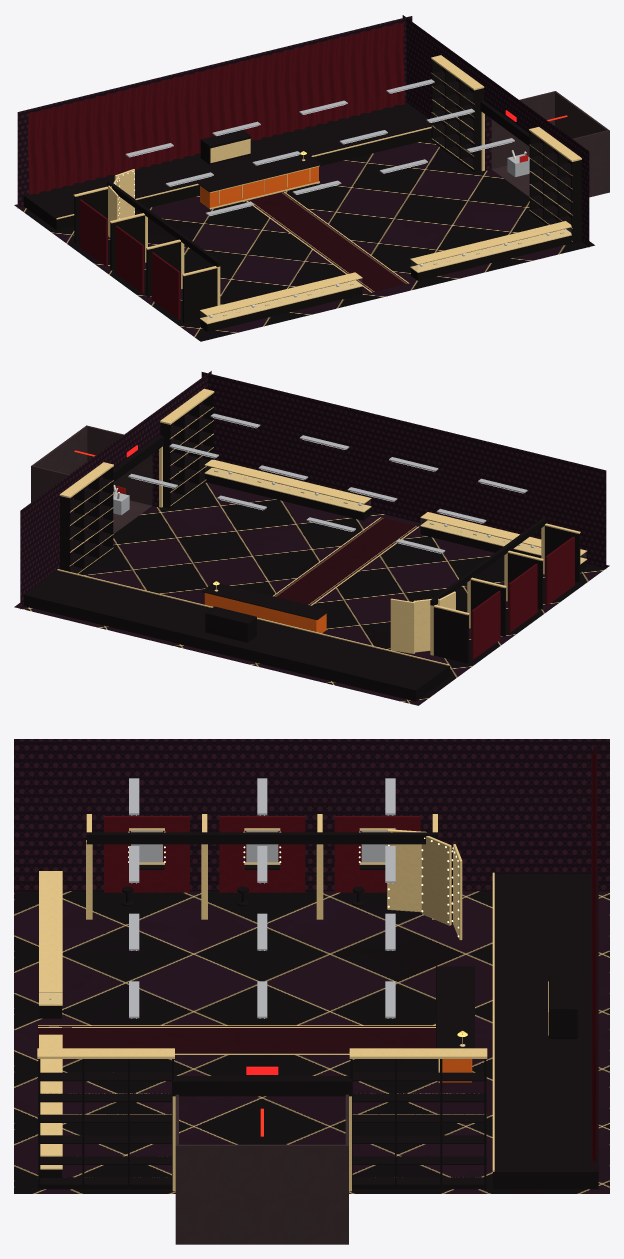
Rendered from sexy-trauma-costume.glb.
The picture shows the model from 3 angles, top to bottom: view 1: azimuth 30°, elevation 25°; view 2: azimuth 150°, elevation 25°; view 3: azimuth 270°, elevation 25°; orthographic projection. The views are drawn at different scales.
Parts seen in each view (by area): view 1: set.stc_floor.mirror.nocast, set.stc_velvet, set.stc_black, set.stc_gold, set.stc_wallpaper, set.stc_runner.nocast, set.stc_concrete, set.stc_chrome.hidden, set.stc_orange, set.stc_concrete.nocast; view 2: set.stc_black, set.stc_floor.mirror.nocast, set.stc_wallpaper.hidden, set.stc_gold, set.stc_wallpaper, set.stc_velvet, set.stc_runner.nocast, set.stc_concrete, set.stc_chrome.hidden, set.stc_orange, set.stc_concrete.nocast; view 3: set.stc_floor.mirror.nocast, set.stc_wallpaper, set.stc_black, set.stc_gold, set.stc_concrete, set.stc_velvet, set.stc_runner.nocast, set.stc_chrome.hidden, set.stc_chrome.
Part boxes in pixels (<box>): set.stc_floor.mirror.nocast: <box>14,139,594,341</box>; set.stc_velvet: <box>28,22,404,319</box>; set.stc_black: <box>23,60,581,332</box>; set.stc_gold: <box>56,55,581,324</box>; set.stc_wallpaper: <box>17,15,589,247</box>; set.stc_runner.nocast: <box>246,192,409,292</box>; set.stc_concrete: <box>491,91,609,197</box>; set.stc_chrome.hidden: <box>125,79,514,215</box>; set.stc_orange: <box>200,166,318,208</box>; set.stc_concrete.nocast: <box>492,165,529,196</box>; set.stc_black: <box>24,393,586,701</box>; set.stc_floor.mirror.nocast: <box>14,482,609,705</box>; set.stc_wallpaper.hidden: <box>201,372,606,568</box>; set.stc_gold: <box>57,388,587,665</box>; set.stc_wallpaper: <box>20,371,211,609</box>; set.stc_velvet: <box>471,536,574,659</box>; set.stc_runner.nocast: <box>273,517,419,605</box>; set.stc_concrete: <box>31,425,153,505</box>; set.stc_chrome.hidden: <box>128,413,527,553</box>; set.stc_orange: <box>204,593,326,633</box>; set.stc_concrete.nocast: <box>113,500,151,533</box>; set.stc_floor.mirror.nocast: <box>14,891,609,1193</box>; set.stc_wallpaper: <box>14,739,609,891</box>; set.stc_black: <box>38,832,598,1189</box>; set.stc_gold: <box>37,814,548,1191</box>; set.stc_concrete: <box>175,1094,348,1244</box>; set.stc_velvet: <box>104,746,596,1168</box>; set.stc_runner.nocast: <box>38,1025,435,1054</box>; set.stc_chrome.hidden: <box>129,778,395,1018</box>; set.stc_chrome: <box>131,831,386,862</box>.
Bounding box in the file's own units: 26.45 × 5.3 × 18.6.
22 materials, 8 textured.
